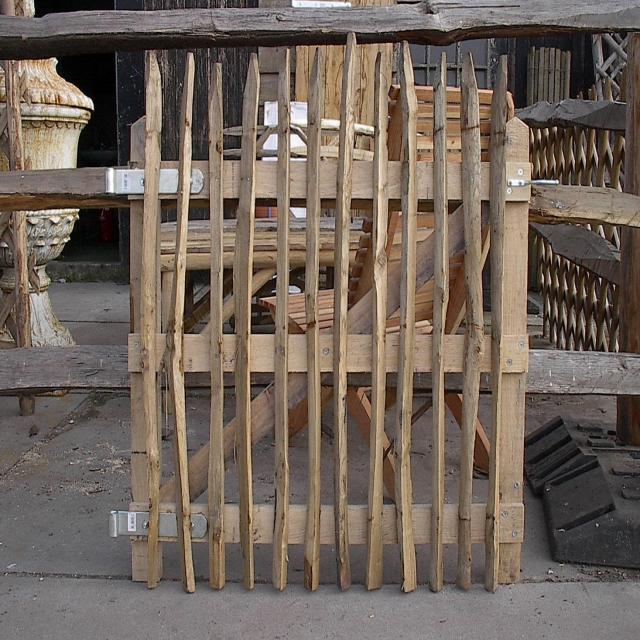fence line: (142, 83, 513, 633)
